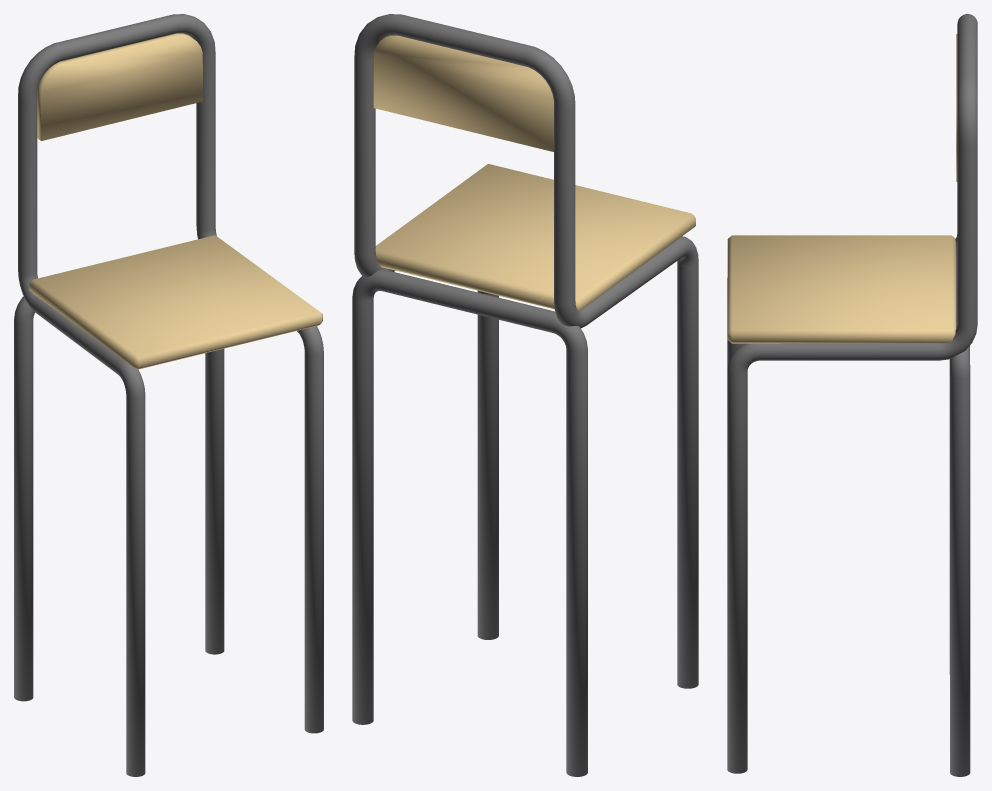
The model's file is Chaise_SVT.fbx.
3 views of the same model, side by side, from view 1: azimuth 30°, elevation 25°; view 2: azimuth 150°, elevation 25°; view 3: azimuth 270°, elevation 25° (orthographic). The views are drawn at different scales.
Visible parts, largest first — view 1: Circle.001; view 2: Circle.001; view 3: Circle.001.
Boxes of the visible parts, x1,y1,x2,y2 form: Circle.001: [14, 14, 323, 776]; Circle.001: [352, 14, 698, 776]; Circle.001: [727, 14, 977, 776].
Bounding box in the file's own units: 129 × 381 × 128.
